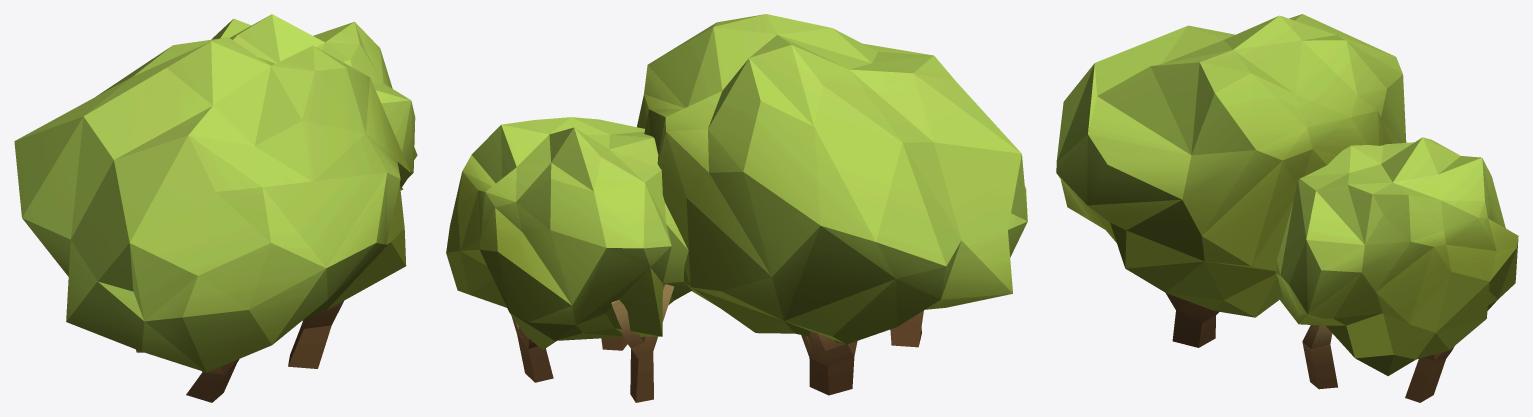
The model's file is pack01_foliage_14.fbx.
The picture shows the model from 3 angles, left to right: view 1: azimuth 30°, elevation 25°; view 2: azimuth 150°, elevation 25°; view 3: azimuth 270°, elevation 25°; orthographic projection. The views are drawn at different scales.
Visible parts, largest first — view 1: Bush_group_small; view 2: Bush_group_small; view 3: Bush_group_small.
Boxes of the visible parts, box(x1,y1,x2,y2) form: Bush_group_small: box(14, 14, 417, 402); Bush_group_small: box(446, 14, 1027, 402); Bush_group_small: box(1056, 14, 1518, 402).
Size of the model in its own units: 302 by 201 by 280.
Materials: 1 (1 with a texture image).
